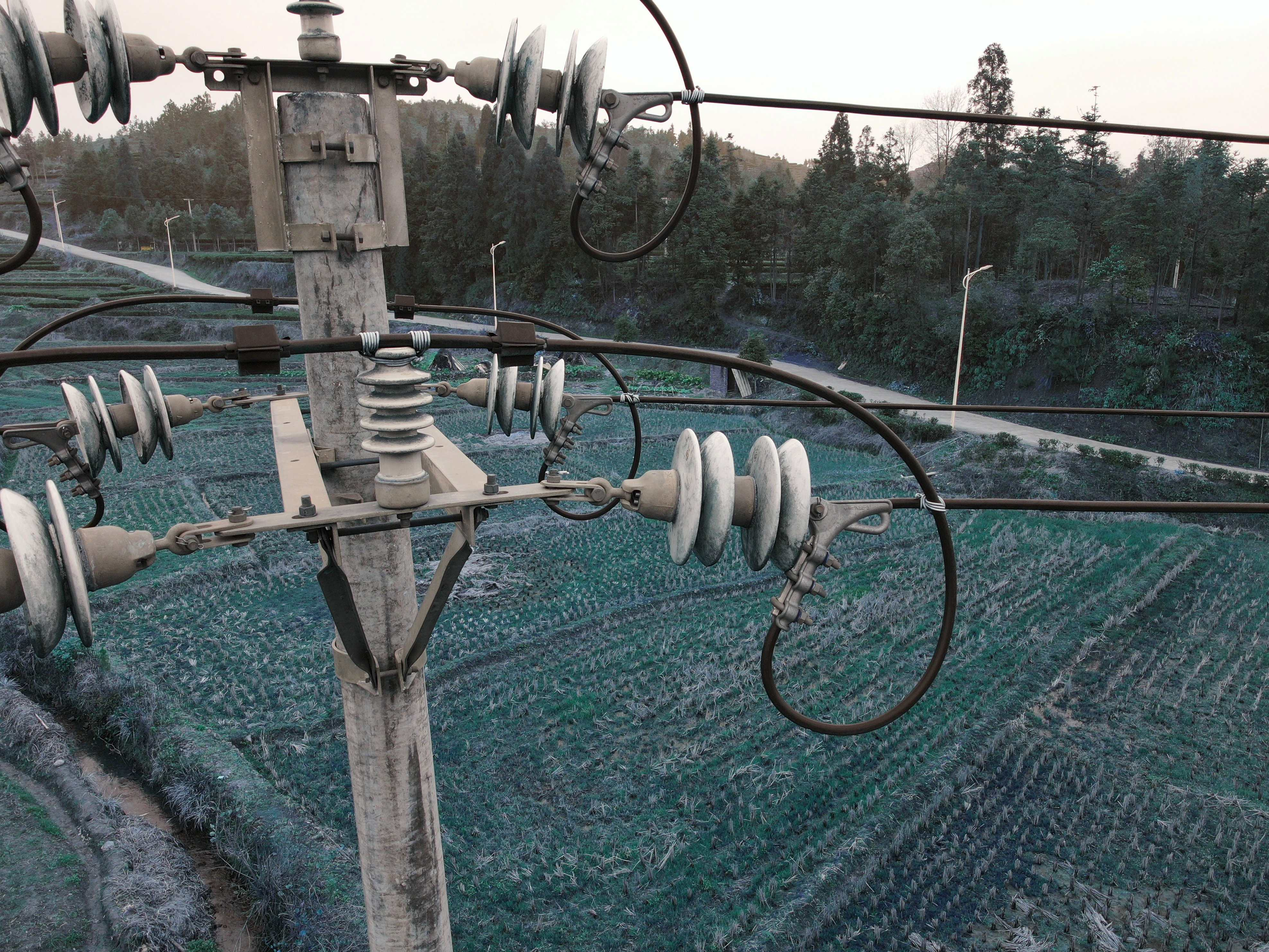severe_soiling_no_discharge_whole: (3, 481, 158, 661), (629, 423, 817, 571), (452, 13, 614, 166), (3, 3, 179, 139), (59, 363, 208, 475), (354, 340, 440, 505), (453, 355, 571, 441), (283, 2, 348, 59)
